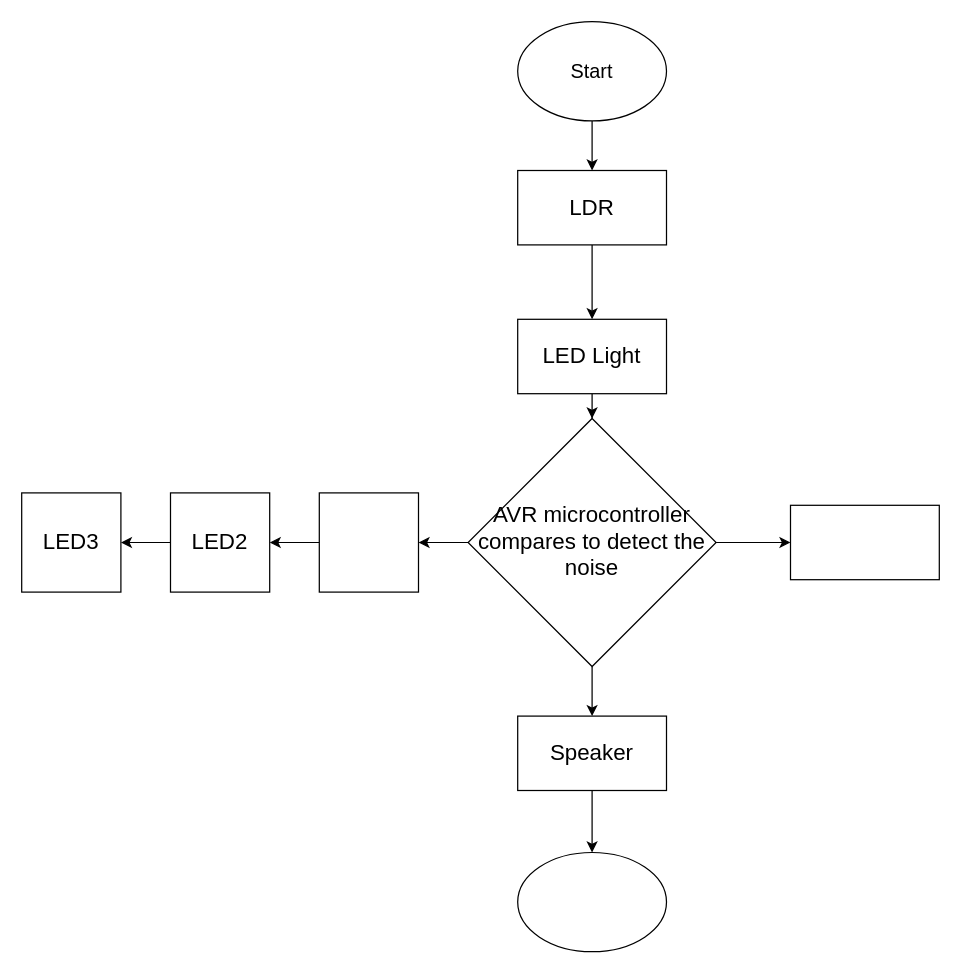
This 961x973 diagram has some shape labels left out. The box of each missing label's shape, as (x1, y1, x2, y2) in pixels:
Battery: (789, 504, 939, 580)
END: (516, 851, 666, 952)
LED1: (318, 492, 418, 592)
